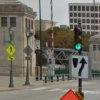Traffic light: (63, 19, 85, 55)
